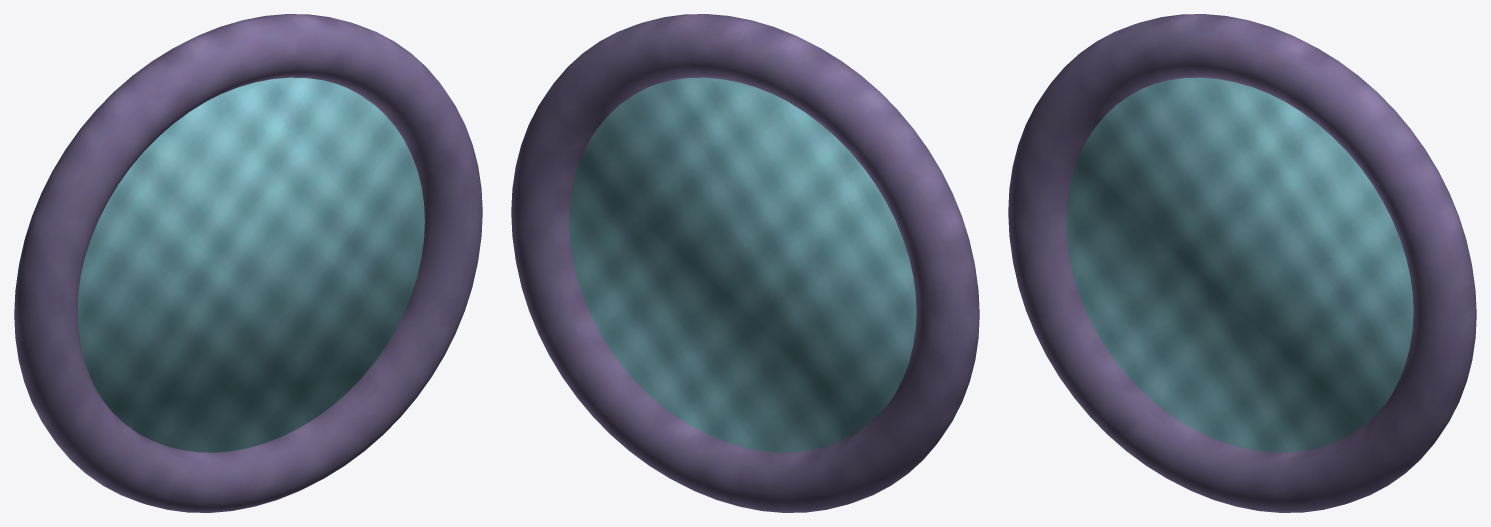
The model's file is portal.glb.
3 renders of one model, left to right at view 1: azimuth 30°, elevation 25°; view 2: azimuth 150°, elevation 25°; view 3: azimuth 330°, elevation 25°, orthographic.
Visible parts, largest first — view 1: portal_disc, portal_ring; view 2: portal_disc, portal_ring; view 3: portal_disc, portal_ring.
Part boxes in pixels (bbox=[...]): portal_disc: bbox=[77, 77, 424, 452]; portal_ring: bbox=[14, 14, 482, 512]; portal_disc: bbox=[569, 77, 916, 452]; portal_ring: bbox=[511, 14, 979, 512]; portal_disc: bbox=[1066, 77, 1413, 452]; portal_ring: bbox=[1008, 14, 1476, 512].
Size of the model in its own units: 5 by 5 by 0.6.
2 materials, 2 textured.
